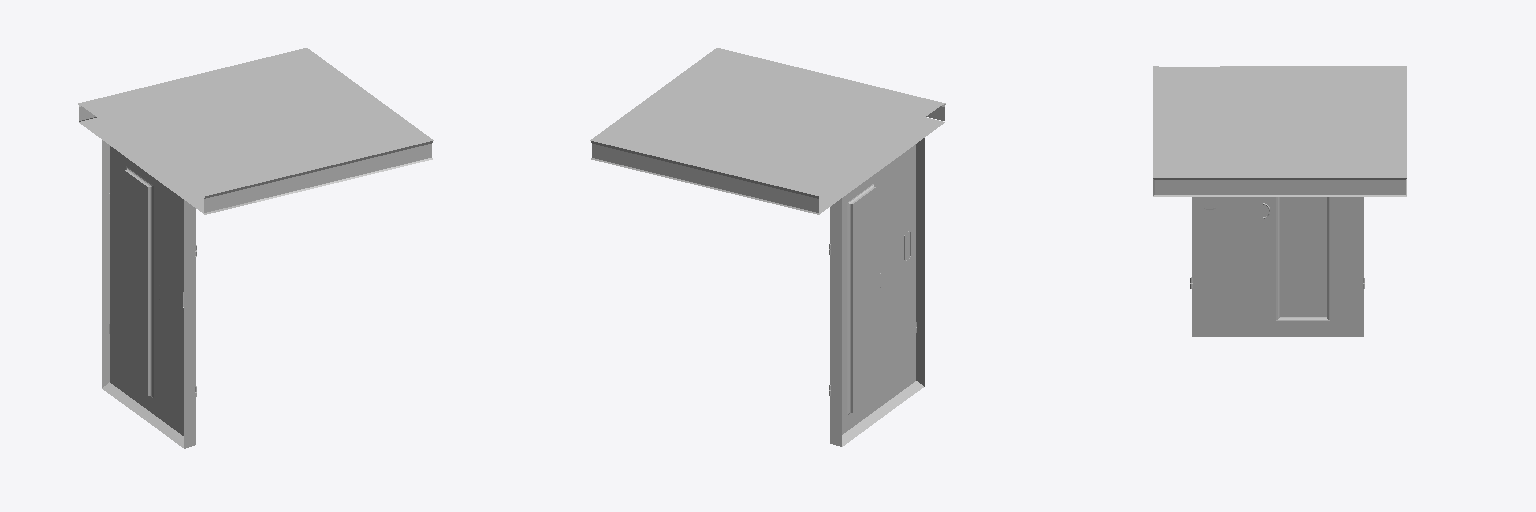
The model's file is door1.obj.
3 views of the same model, side by side, from view 1: azimuth 30°, elevation 25°; view 2: azimuth 150°, elevation 25°; view 3: azimuth 270°, elevation 25° (orthographic).
Visible parts, largest first — view 1: Plane.009_Plane.012; view 2: Plane.009_Plane.012; view 3: Plane.009_Plane.012.
Part boxes in pixels (left/top/right/bottom): Plane.009_Plane.012: left=78, top=48, right=433, bottom=448; Plane.009_Plane.012: left=590, top=48, right=945, bottom=446; Plane.009_Plane.012: left=1153, top=66, right=1406, bottom=336.
Size of the model in its own units: 1.82 by 2.03 by 1.75.